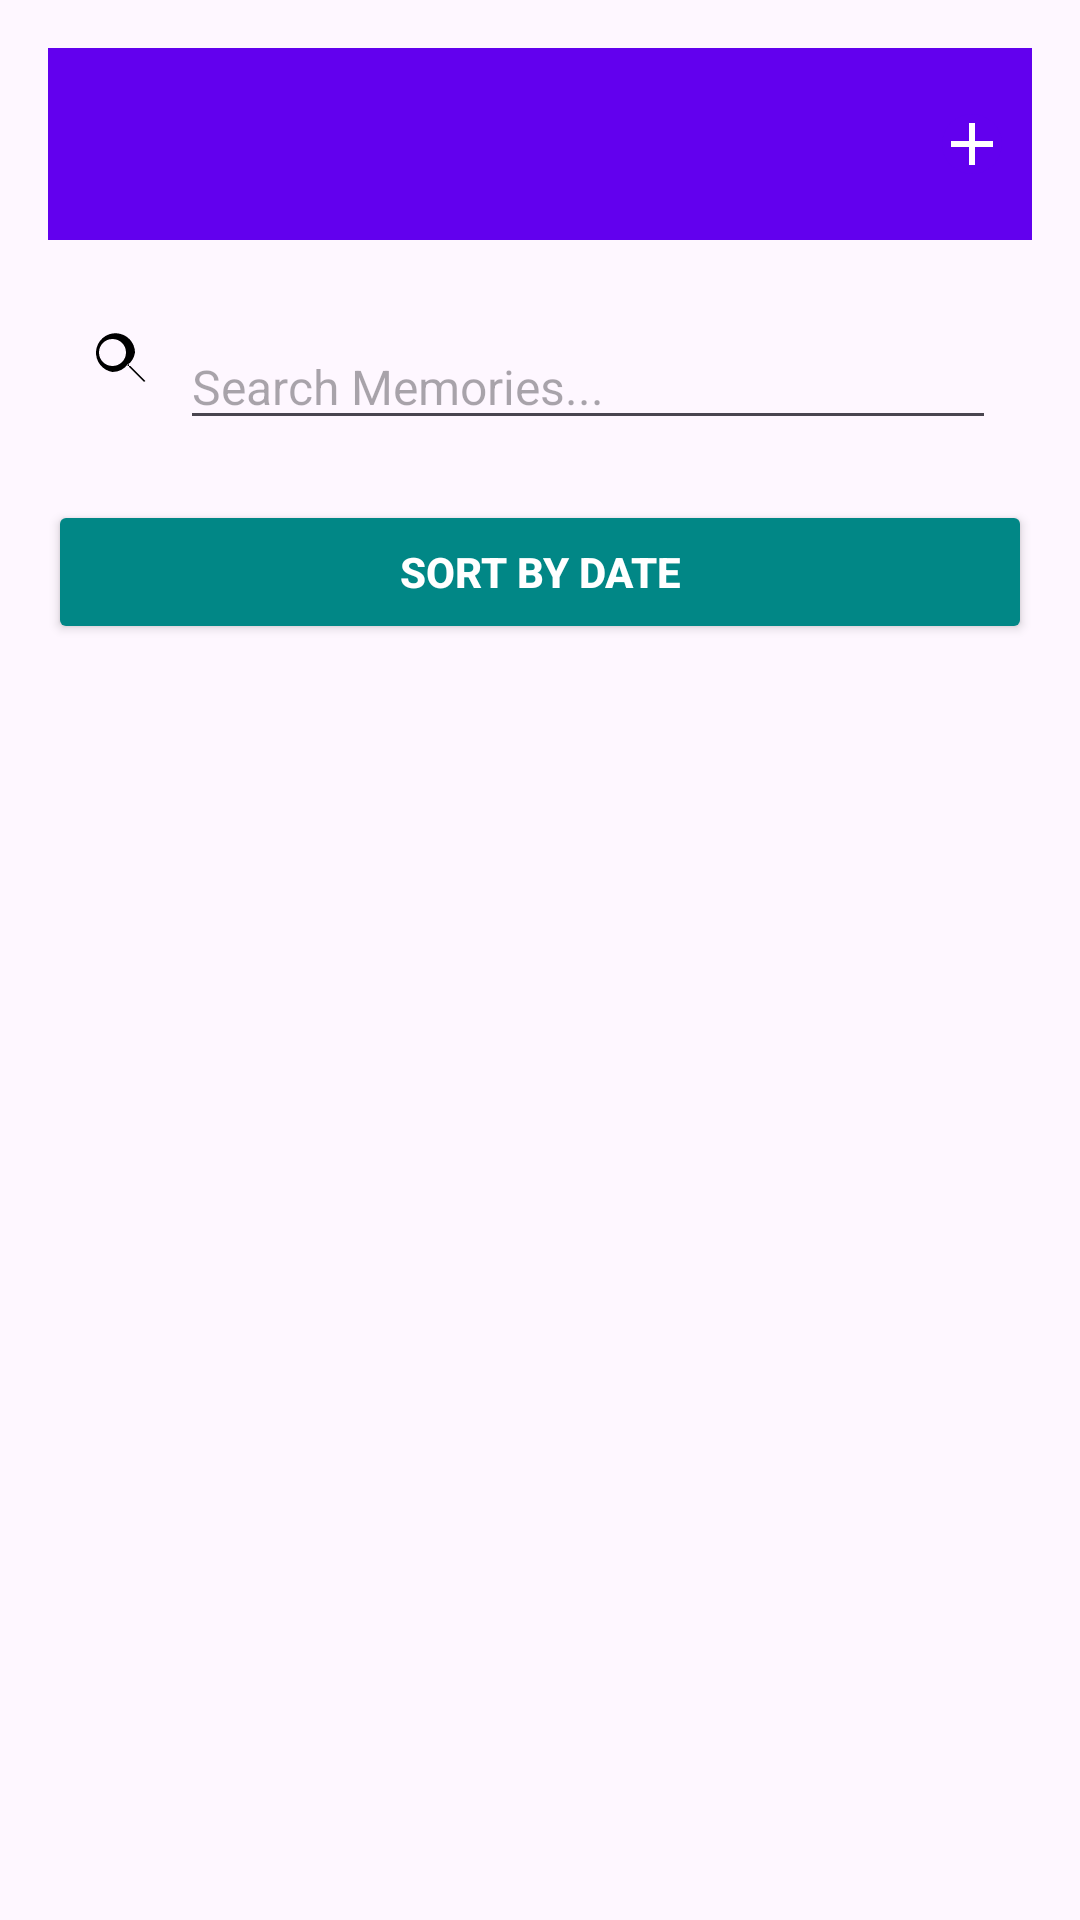

Point at icon controls on the screen. Image size 1080×1920, points as (x,y).
Add Memory: (972,144)
